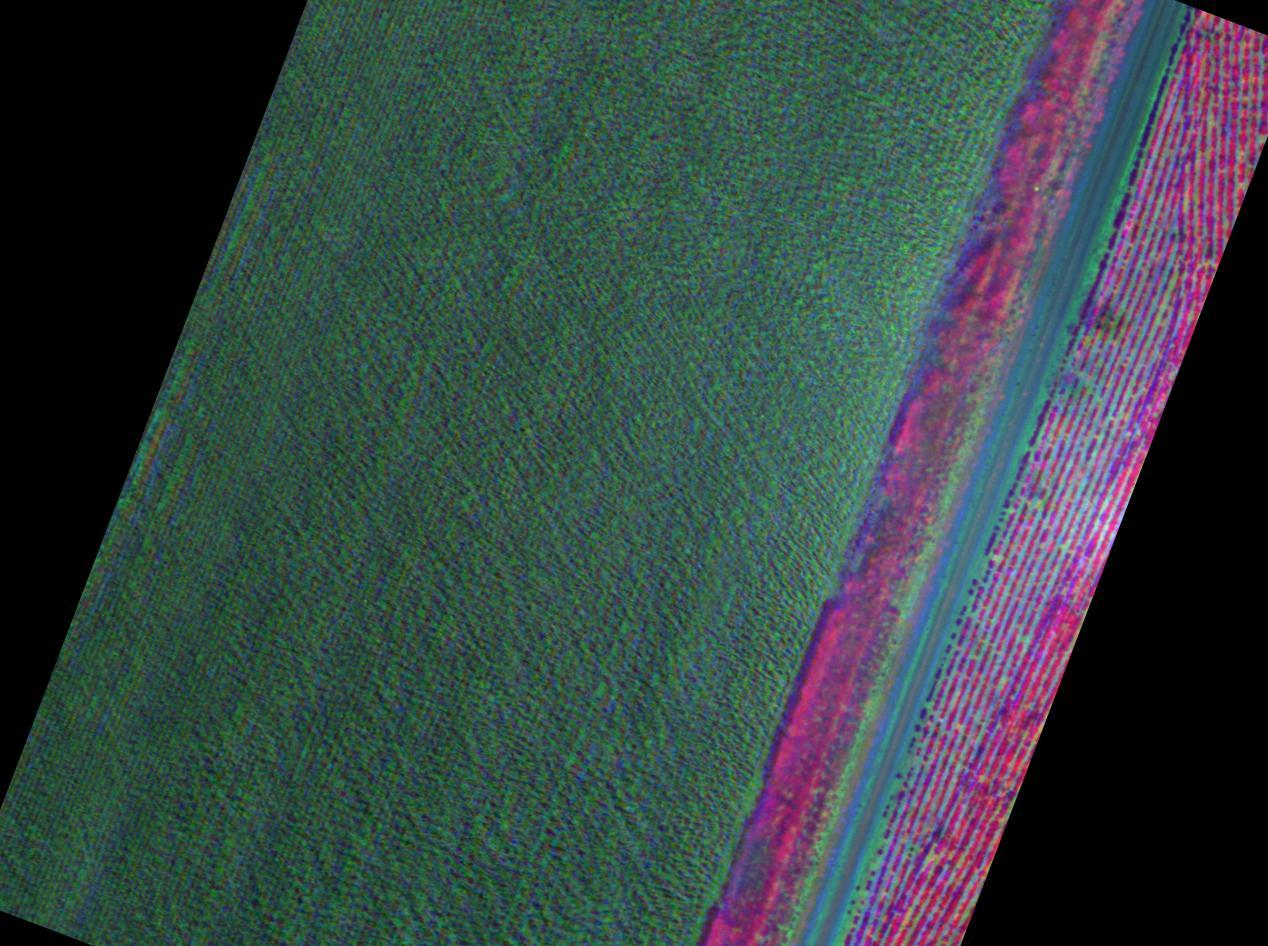dc: (1064, 269, 1158, 363)
